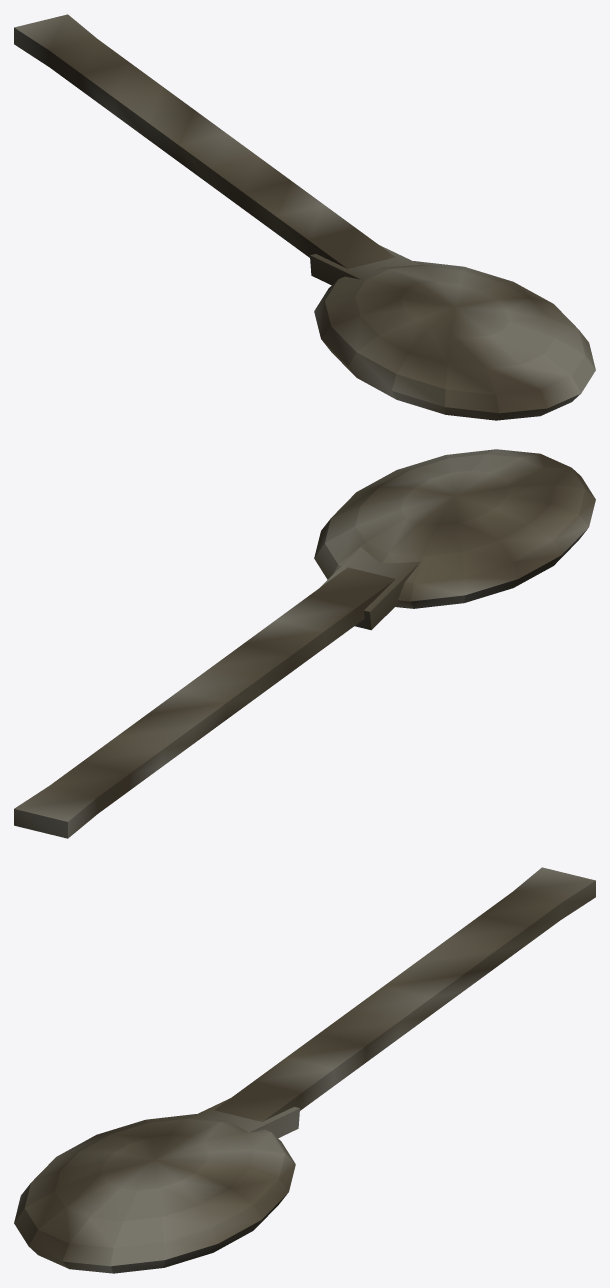
The model's file is FindSpoon.glb.
3 renders of one model, top to bottom at view 1: azimuth 30°, elevation 25°; view 2: azimuth 150°, elevation 25°; view 3: azimuth 330°, elevation 25°, orthographic.
Parts seen in each view (by area): view 1: Spoon2_2.001; view 2: Spoon2_2.001; view 3: Spoon2_2.001.
Part boxes in pixels (<box>): Spoon2_2.001: <box>14,14,595,420</box>; Spoon2_2.001: <box>14,449,595,838</box>; Spoon2_2.001: <box>14,867,595,1273</box>.
Bounding box in the file's own units: 0.04 × 0.012 × 0.1643.
